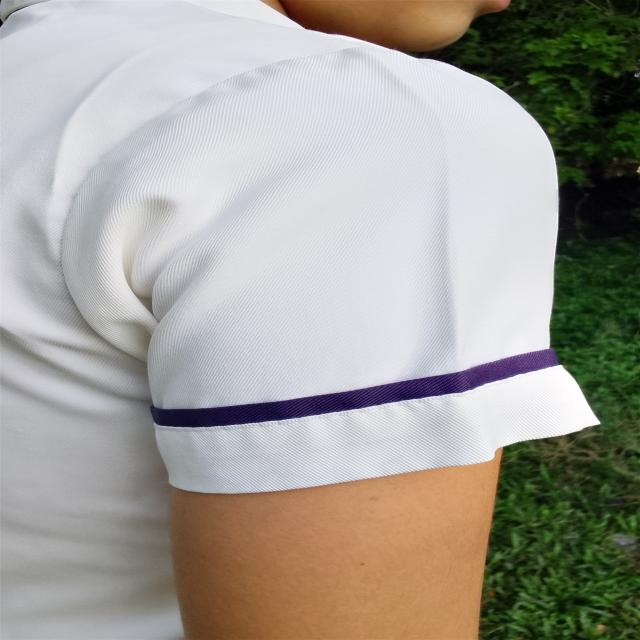education_female_uniform: (2, 3, 594, 640)
